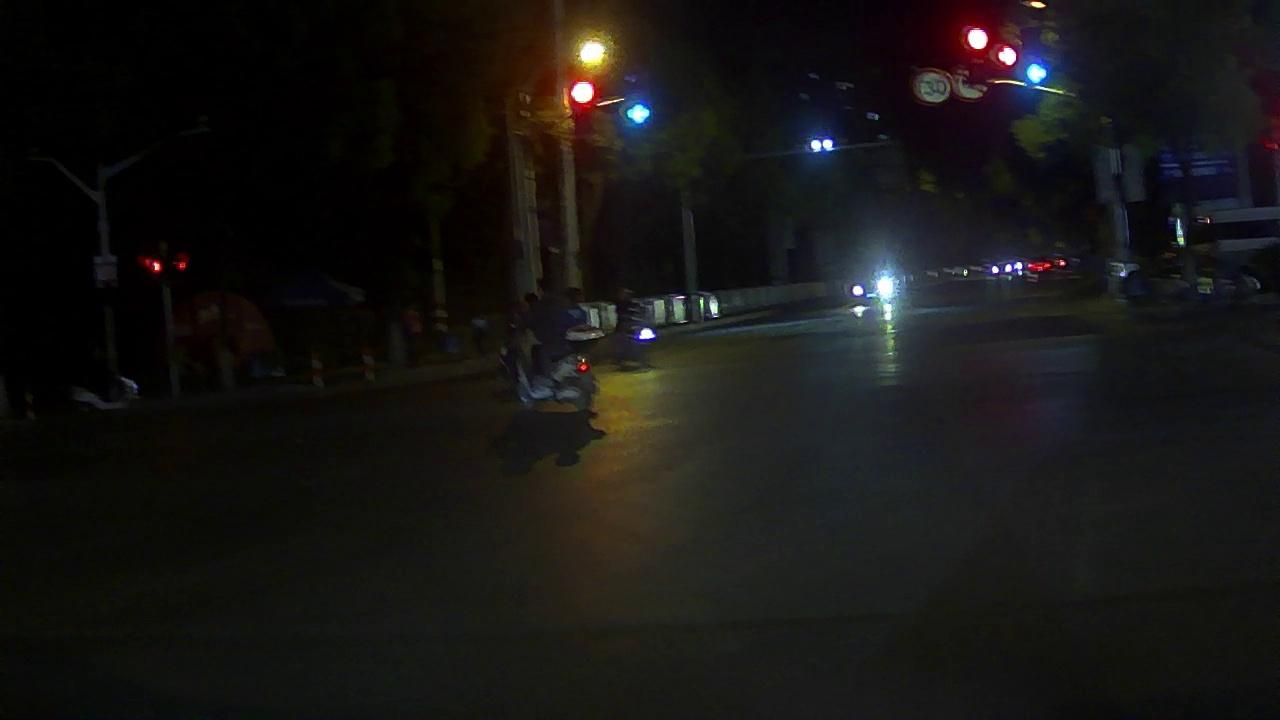traffic_light: (621, 94, 655, 133), (564, 75, 598, 109), (961, 25, 990, 56), (995, 37, 1020, 71), (1021, 59, 1050, 86)
